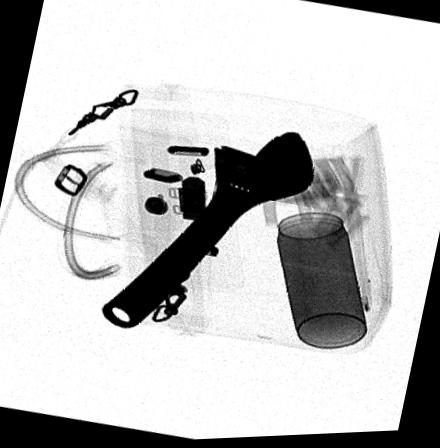Wrench: (98, 132, 316, 329)
